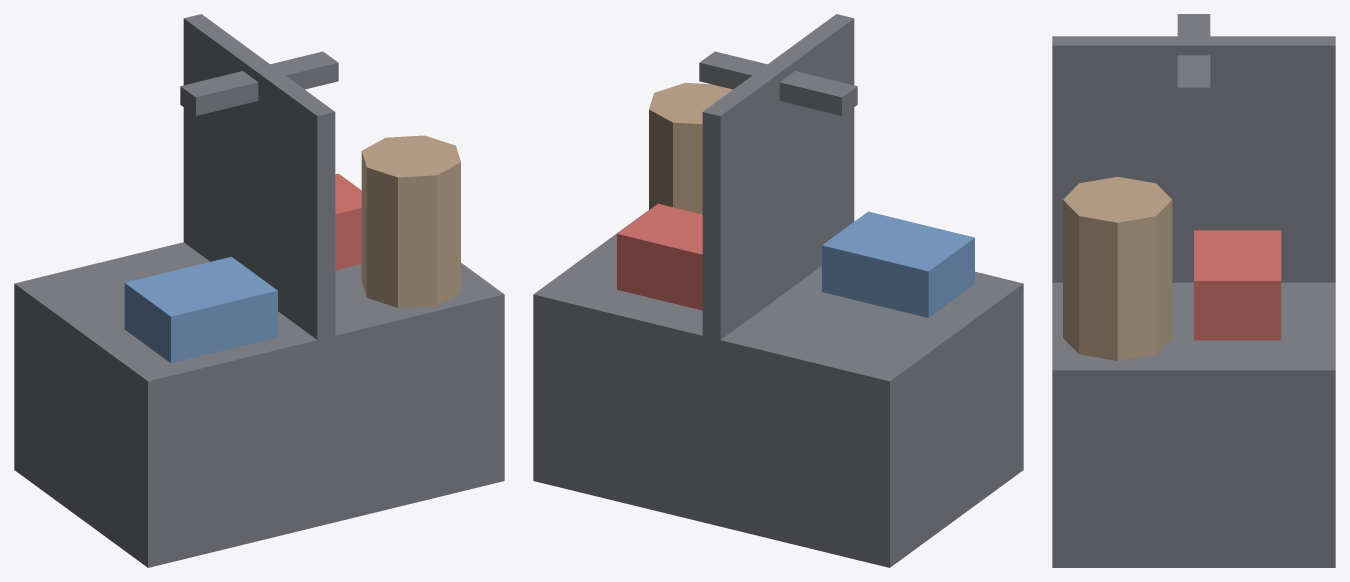
File: grooming-kit-box.glb
The picture shows the model from 3 angles, left to right: view 1: azimuth 30°, elevation 25°; view 2: azimuth 150°, elevation 25°; view 3: azimuth 270°, elevation 25°; orthographic projection. The views are drawn at different scales.
Parts seen in each view (by area): view 1: grooming-kit-box; view 2: grooming-kit-box; view 3: grooming-kit-box.
Boxes of the visible parts, <box> form: grooming-kit-box: <box>14,14,504,567</box>; grooming-kit-box: <box>533,14,1023,567</box>; grooming-kit-box: <box>1052,14,1335,567</box>.
Size of the model in its own units: 0.4 by 0.44 by 0.26.
